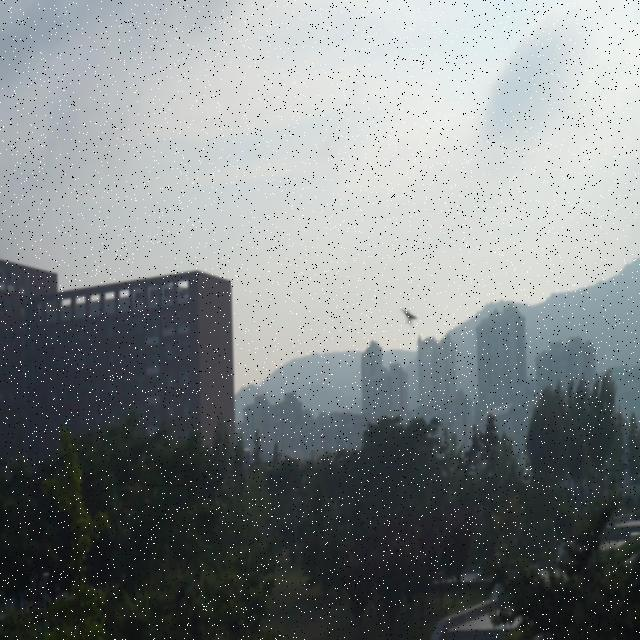UAV: (400, 308, 417, 326)
